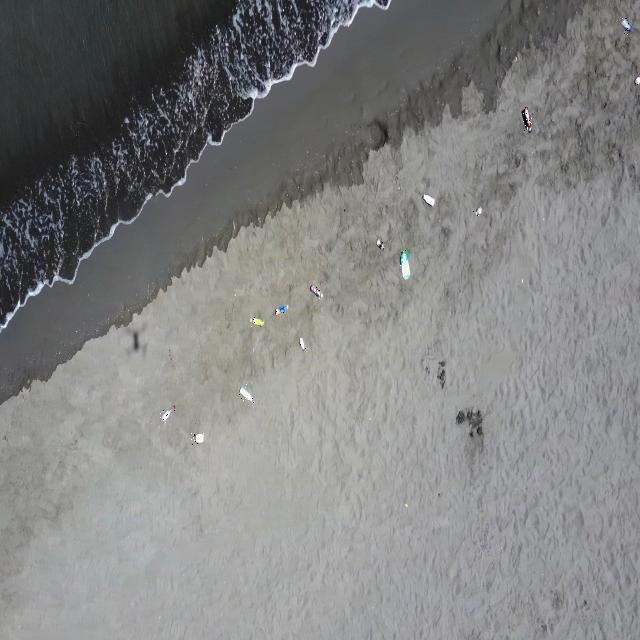Garbage: (520, 105, 532, 131), (160, 404, 175, 420), (400, 249, 407, 279), (240, 386, 252, 402), (311, 284, 322, 298), (273, 304, 287, 315), (621, 18, 631, 32), (249, 316, 263, 326), (423, 193, 433, 206), (192, 432, 203, 443), (195, 432, 203, 443), (473, 207, 482, 215), (376, 238, 383, 248), (300, 336, 304, 348), (635, 75, 639, 84), (404, 503, 407, 507)
